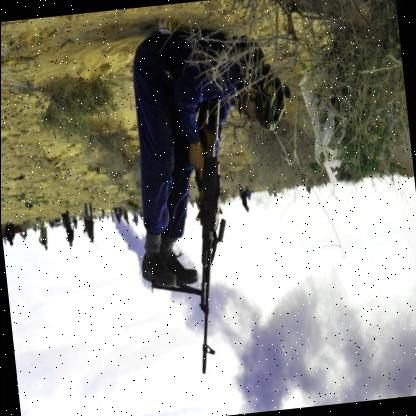rifle: (182, 96, 249, 373)
